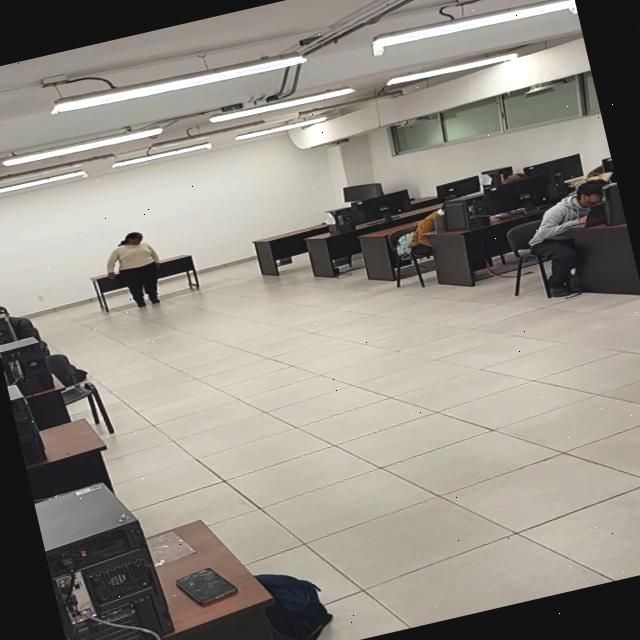Persona: (90, 218, 188, 321)
